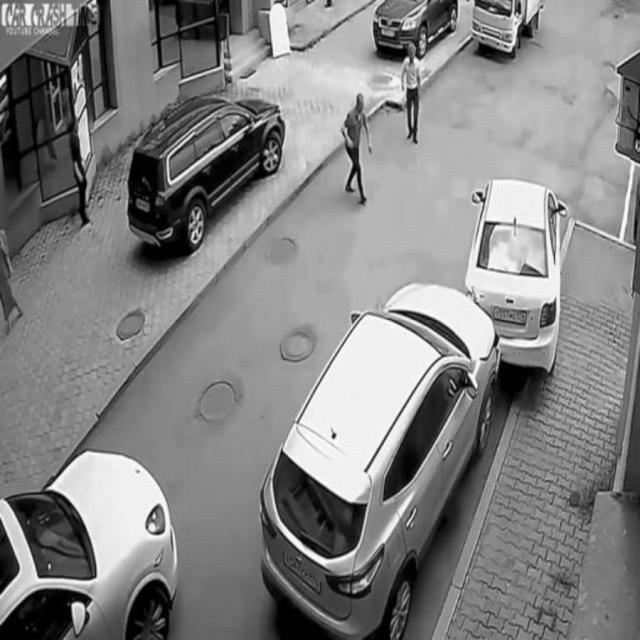accident: (257, 177, 559, 625)
person: (342, 88, 376, 206), (66, 112, 93, 225), (399, 45, 425, 148)
vehicle: (1, 445, 179, 640), (127, 90, 283, 254), (369, 0, 460, 54), (471, 1, 543, 63)
